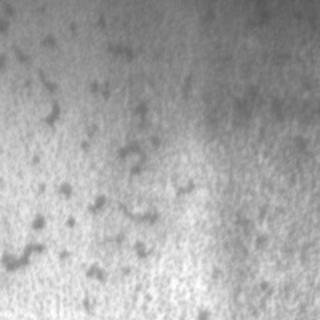pitted_surface: (82, 36, 294, 316), (0, 22, 130, 312)
